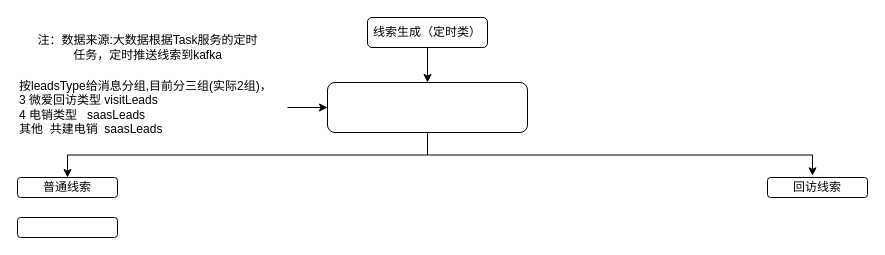
This 885x255 diagram has some shape labels left out. The shapes that lost their labels are listed below. From the top down, each one's centre as x and y in pixels, then its label:
the point at 427,107: 根据消息中msg.Key解析线索类型 线索分组按照左侧简称做key,消息体做值得map
the point at 67,227: 解析数据
